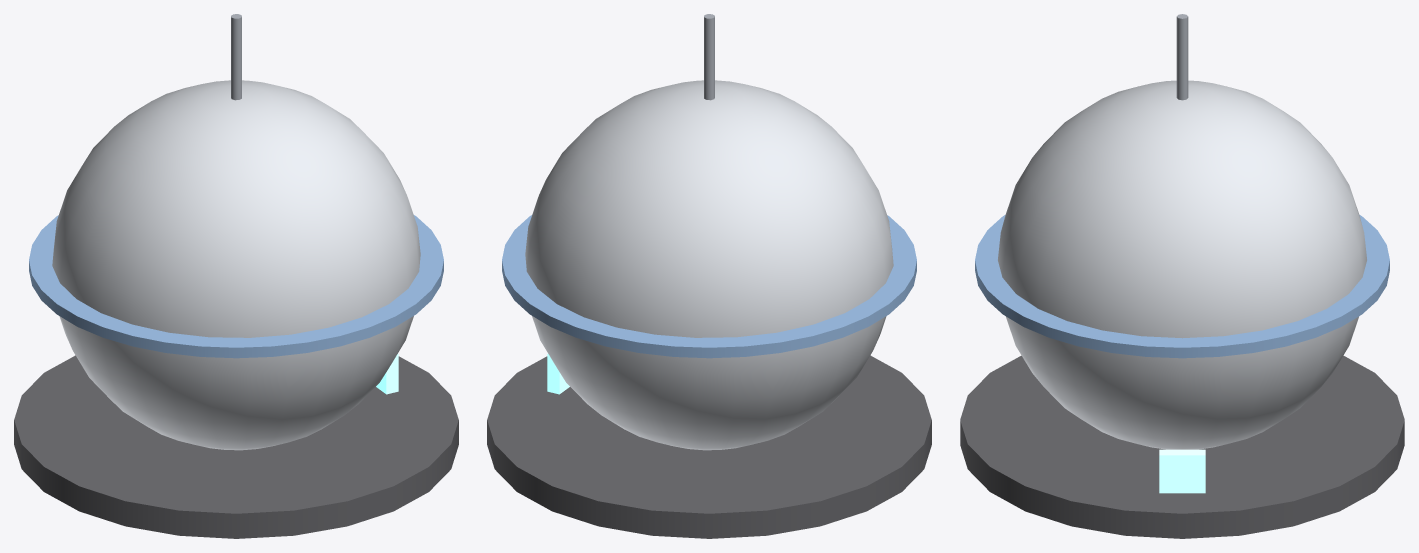
Rendered from orb_2x2_2040.glb.
The picture shows the model from 3 angles, left to right: view 1: azimuth 30°, elevation 25°; view 2: azimuth 150°, elevation 25°; view 3: azimuth 270°, elevation 25°; orthographic projection.
Parts seen in each view (by area): view 1: Orb, Plinth, Ring, Spire; view 2: Orb, Plinth, Ring, Spire; view 3: Orb, Plinth, Ring, Gate, Spire.
Part boxes in pixels (x1,y1,x2,y2): Orb: (52,80,420,450); Plinth: (14,355,458,538); Ring: (29,215,443,358); Spire: (231,14,241,100); Orb: (525,80,893,450); Plinth: (487,355,931,538); Ring: (502,215,916,358); Spire: (704,14,714,100); Orb: (998,80,1366,449); Plinth: (960,355,1404,538); Ring: (975,215,1389,358); Gate: (1159,449,1205,493); Spire: (1176,14,1188,100).
Bounding box in the file's own units: 1.92 × 2.04 × 1.92.
